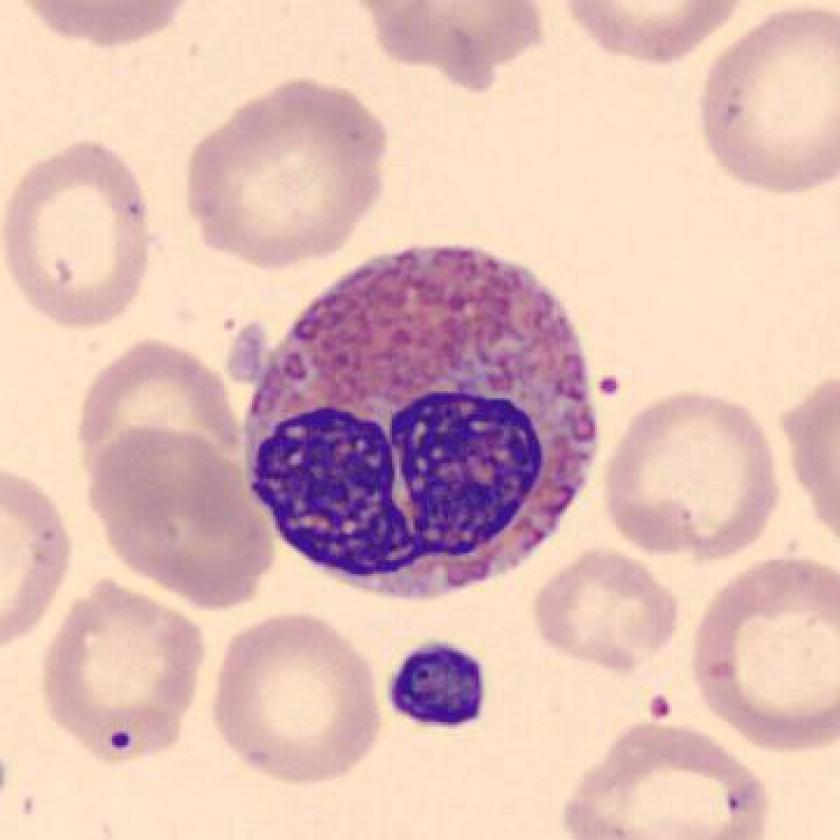eosinophil: (232, 230, 612, 610)
